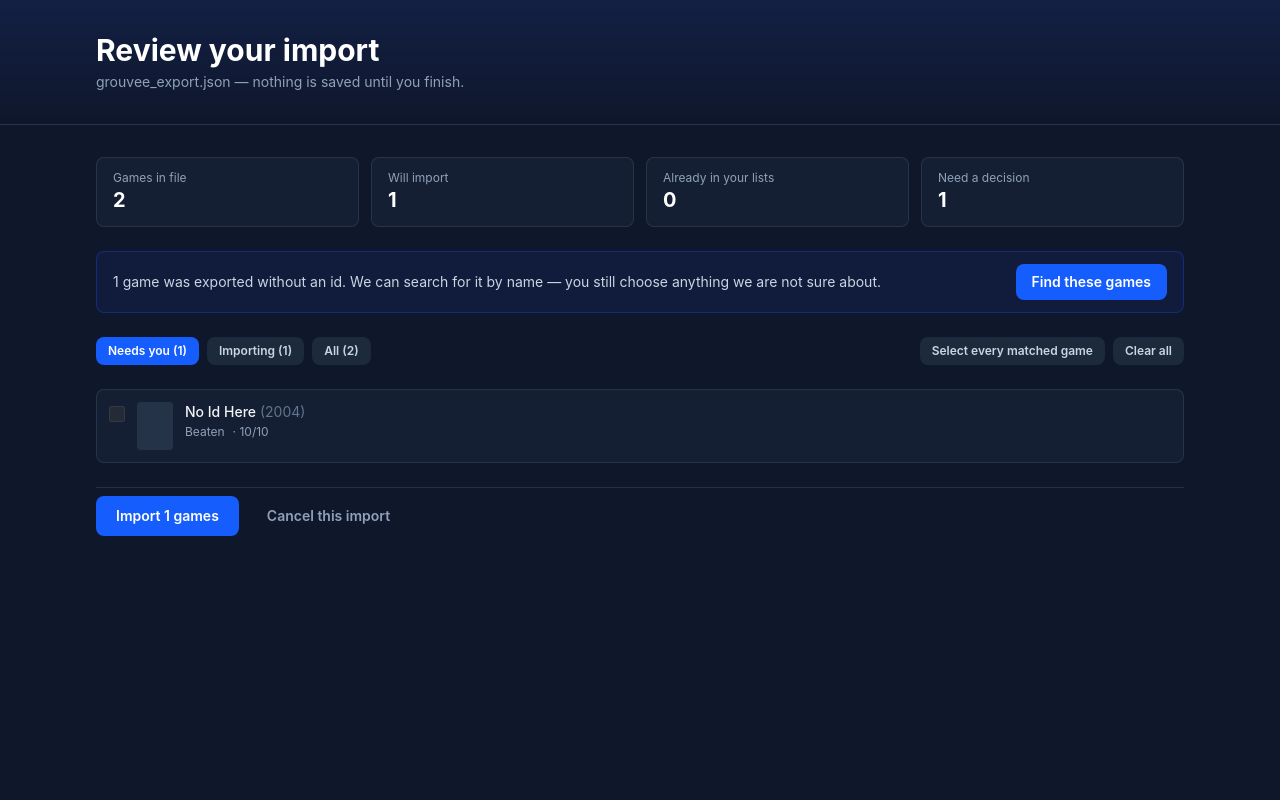
it: ImportReviewPage › offers no search on a row that has its game, or that nobody has looked up yet
The width and height of the screenshot is (1280, 800).
Click the button "All (2)".
click(341, 351)  # box [312,337,371,365]
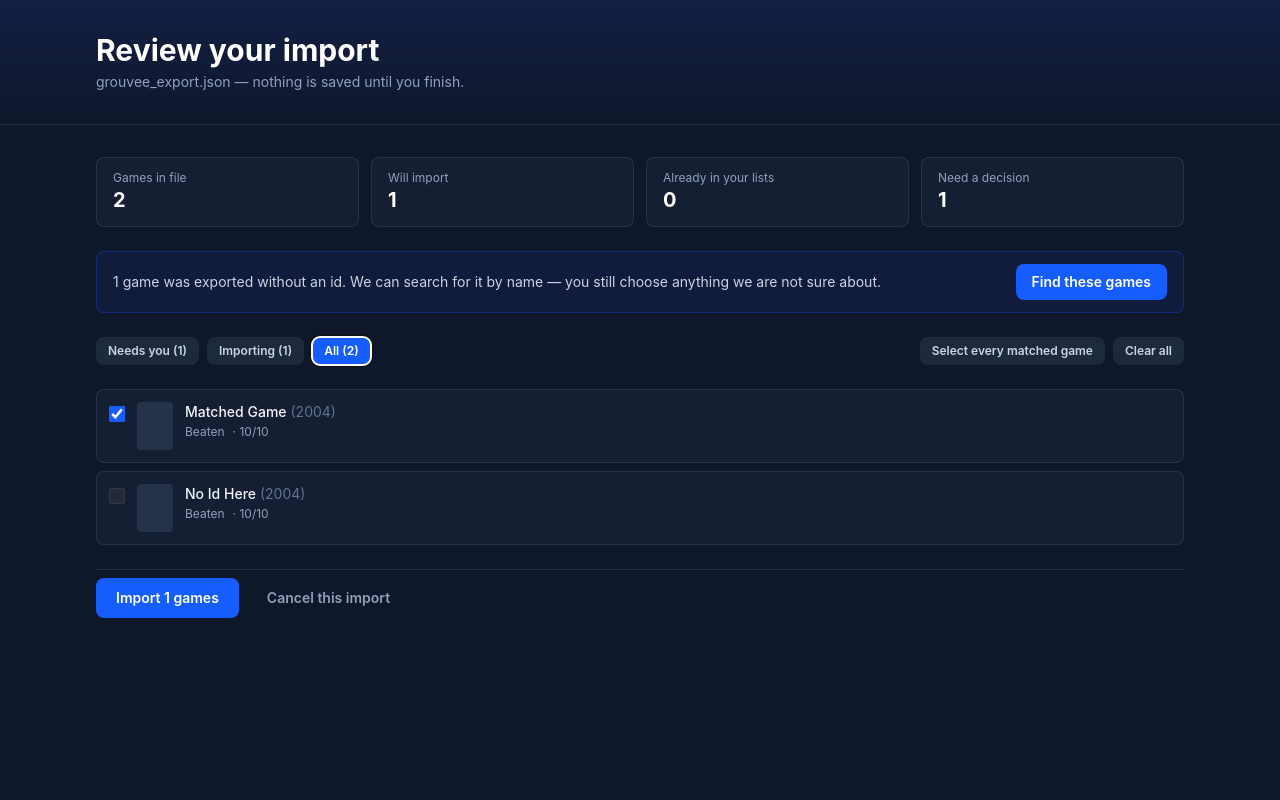
Expected: the text "No Id Here" is shown, [185,485,256,502]
Result: the text "Matched Game" is shown at [185,403,286,420]
